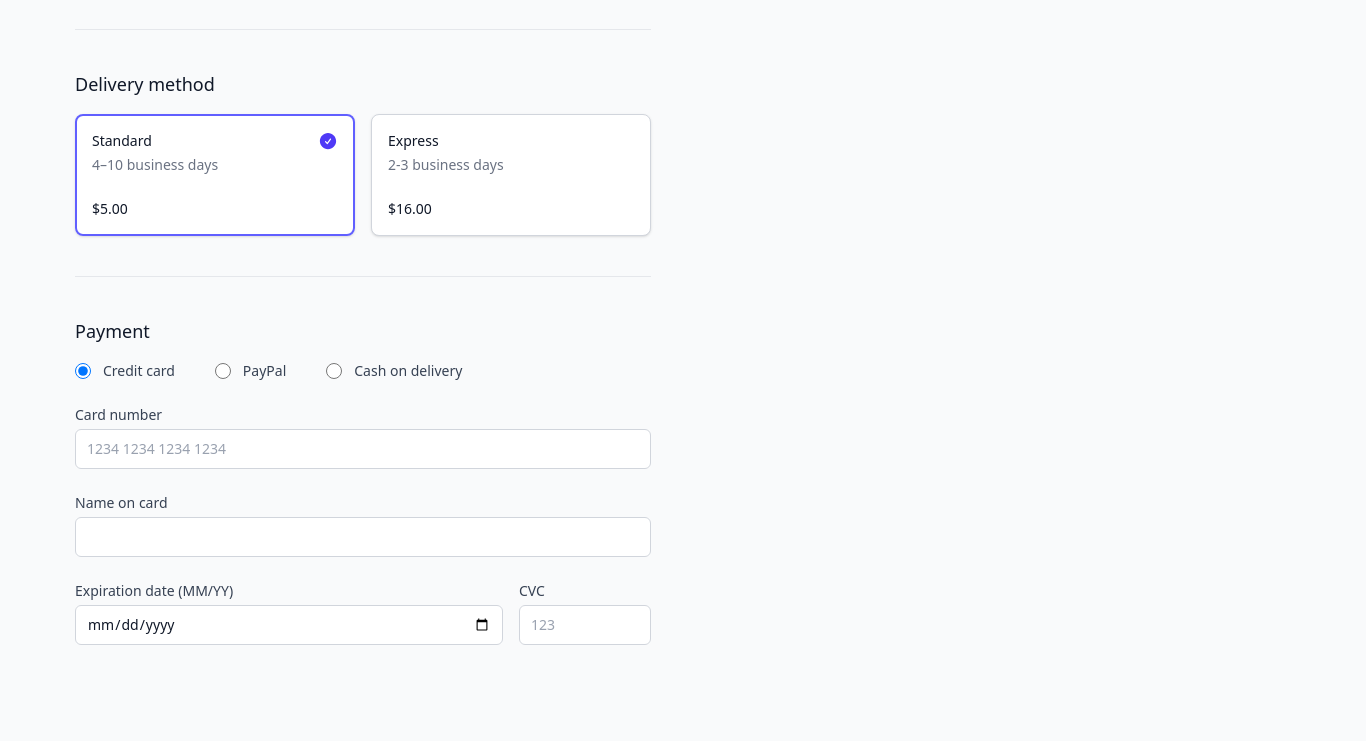
Test: CheckoutPage Component › shows PayPal message when PayPal payment is selected
(page scrolled)
// Change to PayPal
What coordinates should you click on to do the following:
click the radio button labelled "PayPal"
I would click on:
 (223, 371)
Its box is x1=215 y1=363 x2=231 y2=379.
(page scrolled)
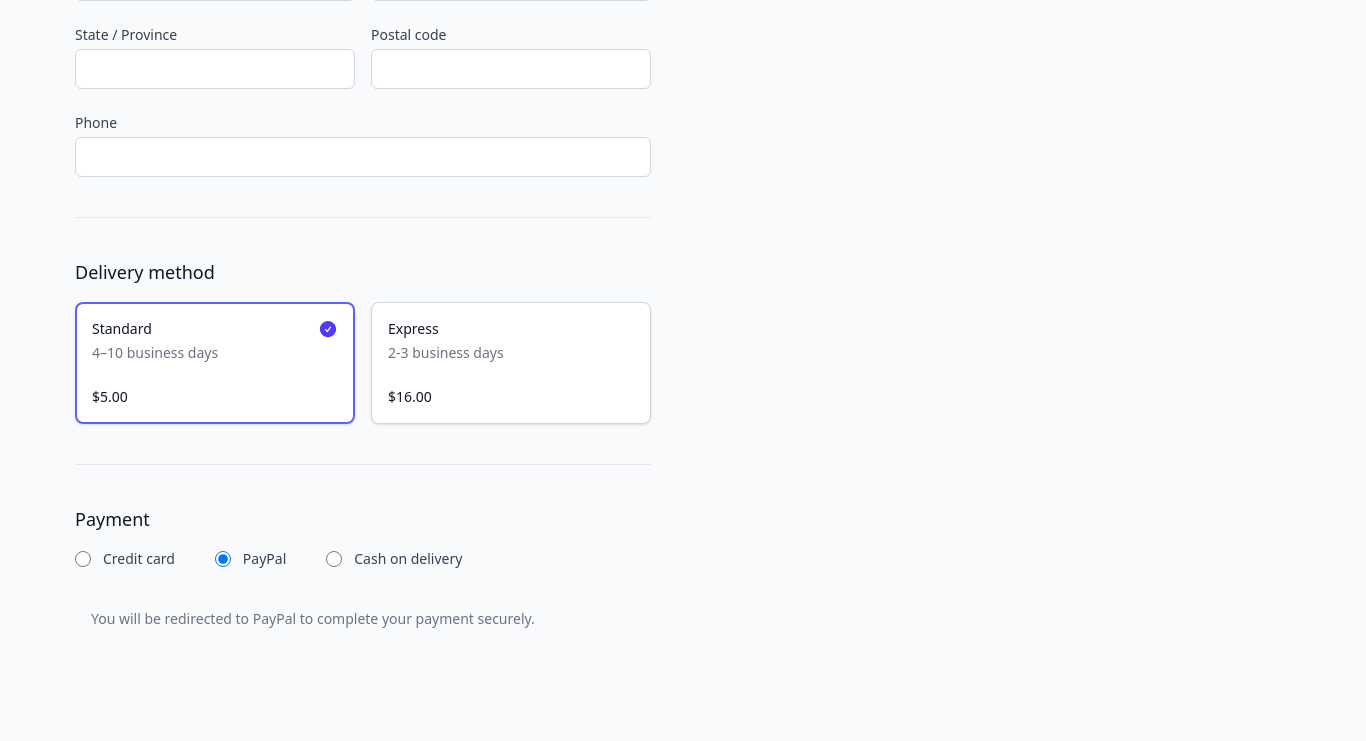
Now the text "redirected to PayPal" is shown, box x1=91 y1=609 x2=535 y2=628
Now the label labelled "Card number" is gone
